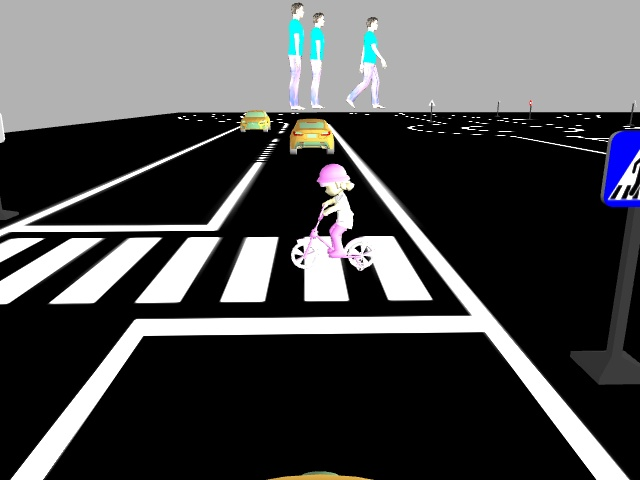Crosswalk: (604, 131, 639, 214)
Pedestrian: (290, 162, 381, 273)
